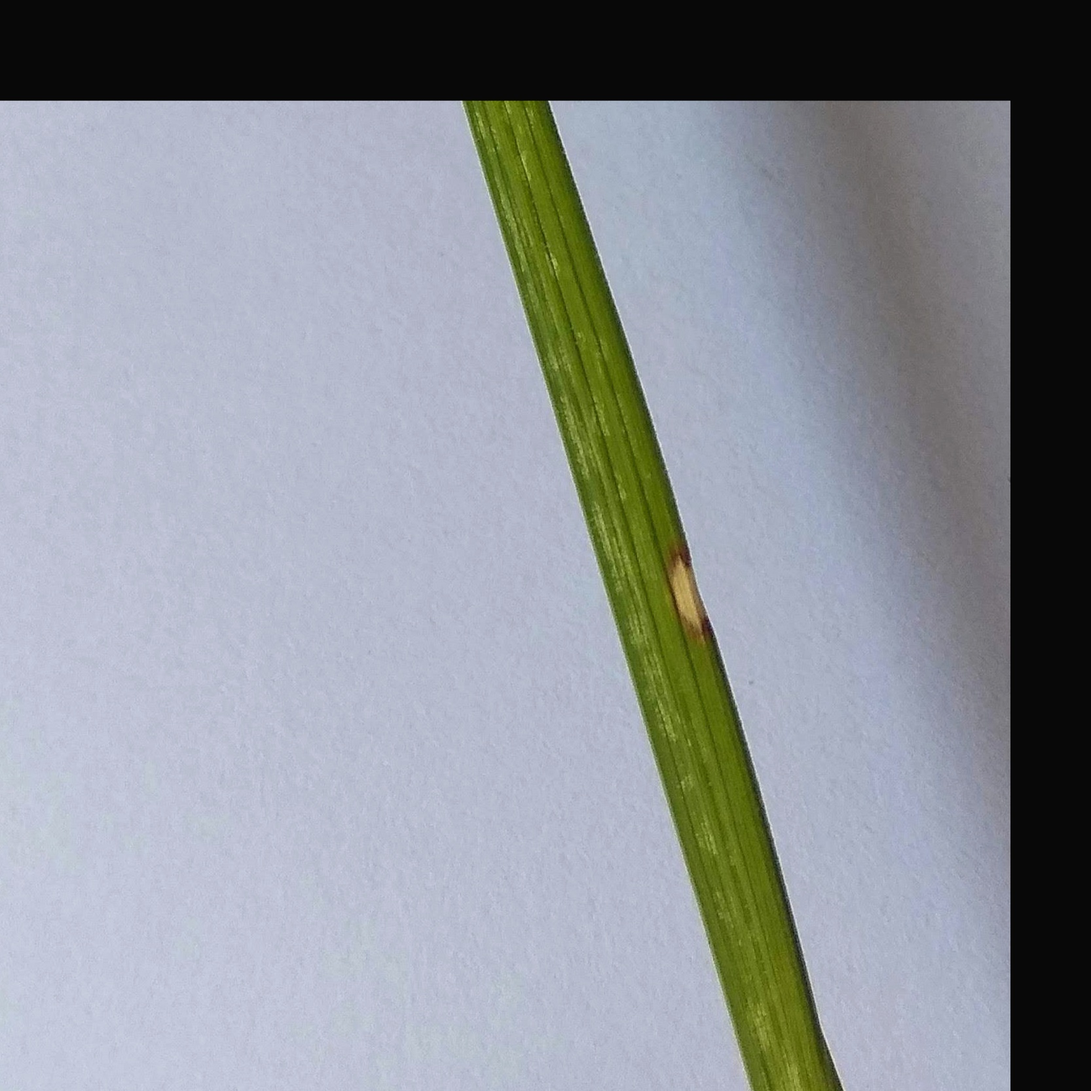Brown_Spot: (643, 528, 739, 666)
